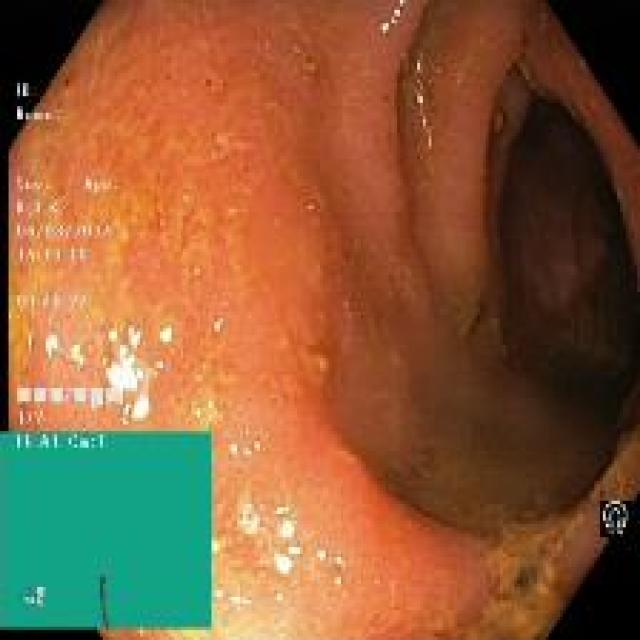ulcerative-colitis-grade-1: (10, 3, 490, 638)
